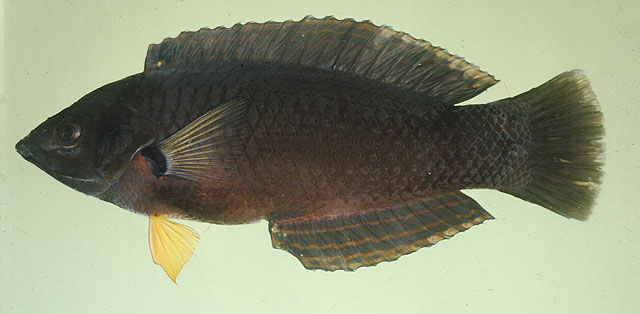fish: (13, 14, 607, 287)
